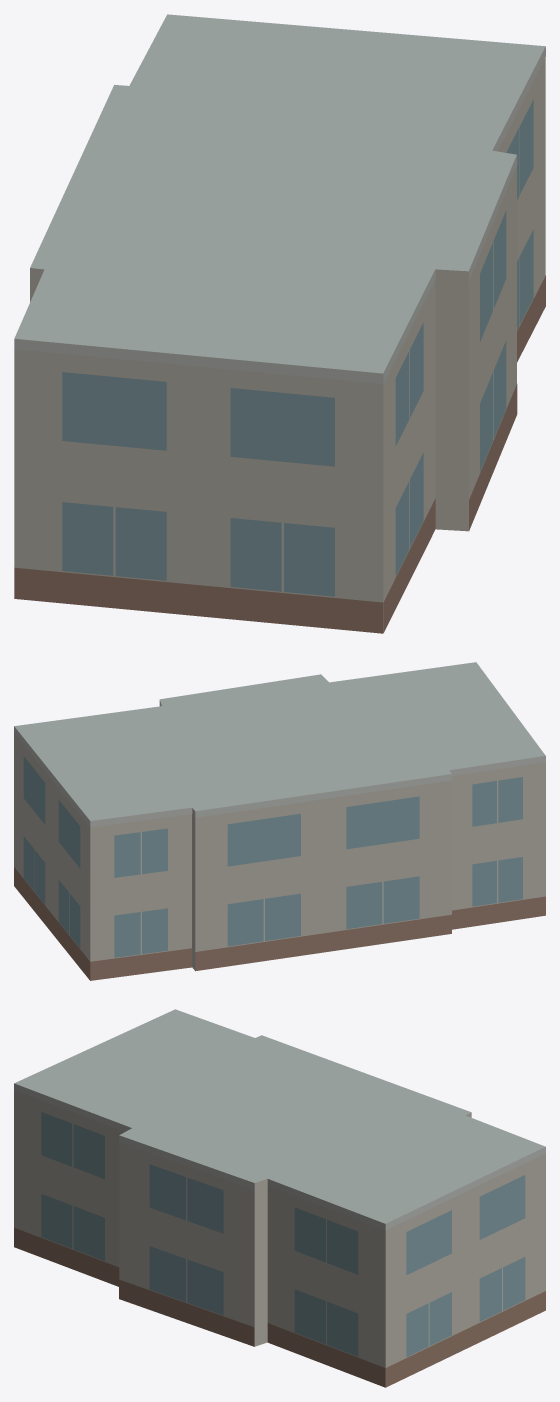
The model's file is survey-upis-32935858.glb.
3 views of the same model, one above another, from view 1: azimuth 30°, elevation 25°; view 2: azimuth 150°, elevation 25°; view 3: azimuth 270°, elevation 25° (orthographic). The views are drawn at different scales.
Visible parts, largest first — view 1: survey-upis-32935858.tmp; view 2: survey-upis-32935858.tmp; view 3: survey-upis-32935858.tmp.
Boxes of the visible parts, x1,y1,x2,y2 form: survey-upis-32935858.tmp: (14, 14, 545, 633); survey-upis-32935858.tmp: (14, 662, 545, 980); survey-upis-32935858.tmp: (14, 1009, 545, 1387).
Bounding box in the file's own units: 17.15 × 6.1 × 17.96.
